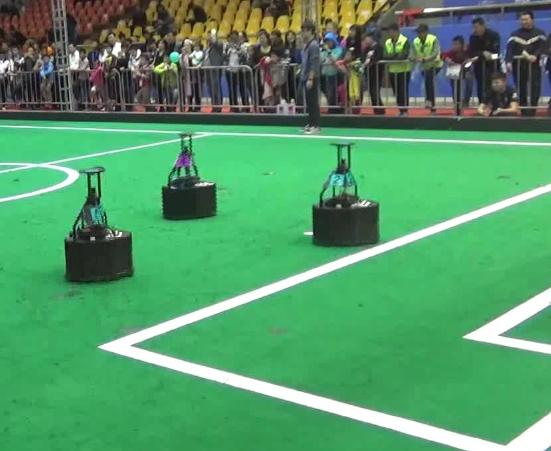robot: (58, 162, 139, 286), (308, 139, 381, 247), (157, 127, 221, 221)
